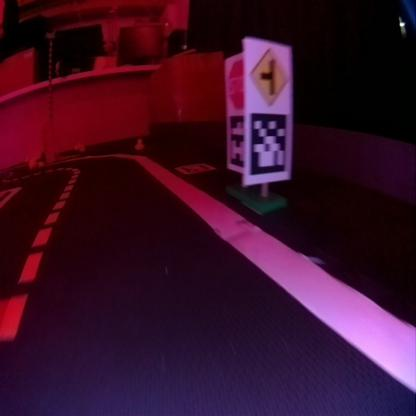Duckie: (135, 138, 143, 148), (78, 143, 84, 152)
Intersection sign: (250, 46, 286, 105)
QR code: (250, 112, 286, 174), (229, 114, 244, 166), (176, 161, 215, 174)
Stop sign: (228, 59, 244, 107)
